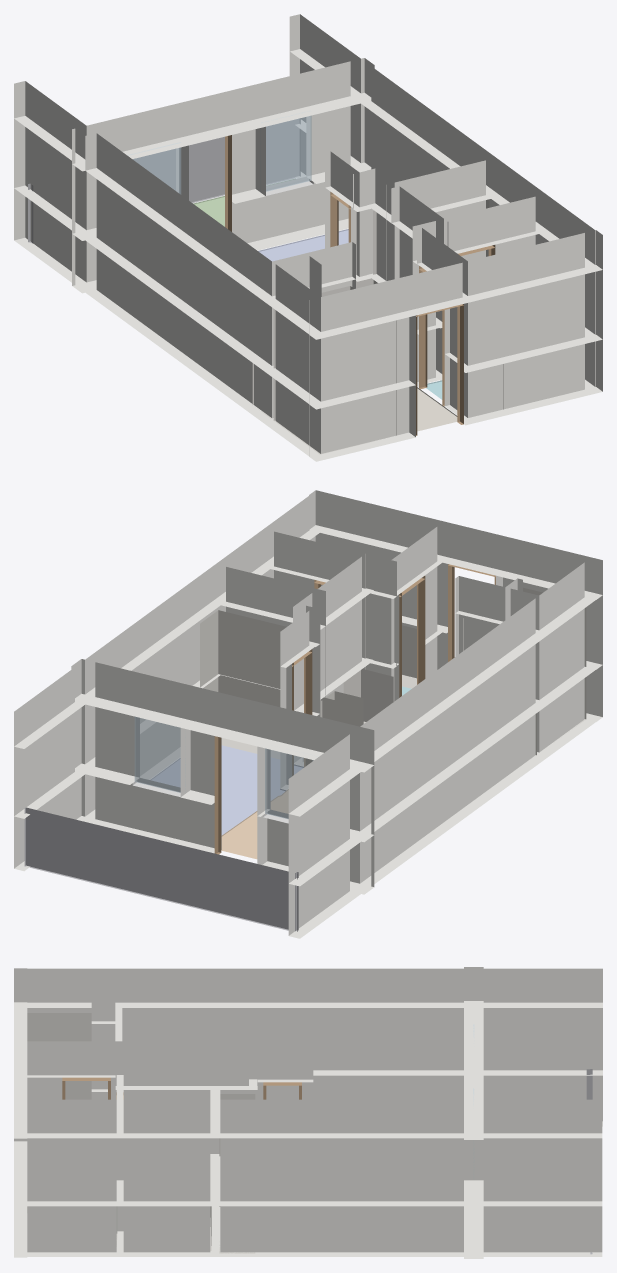
The picture shows the model from 3 angles, top to bottom: view 1: azimuth 30°, elevation 25°; view 2: azimuth 150°, elevation 25°; view 3: azimuth 270°, elevation 25°; orthographic projection. The views are drawn at different scales.
Parts seen in each view (by area): view 1: walls, railings, window_1, window_2, door_3, floor_4_Entry, floor_2_Bed_Room, door_5, furniture_1_closet, door_0, door_6; view 2: walls, railings, furniture_0_closet, floor_2_Bed_Room, window_1, window_2, furniture_3_appliance, floor_1_Living_Room, door_5, door_0, furniture_9_sink, door_6 (+3 smaller); view 3: walls, furniture_1_closet.
Boxes of the visible parts, <box> form: walls: <box>14,14,602,461</box>; railings: <box>28,118,300,243</box>; window_1: <box>260,111,311,191</box>; window_2: <box>127,142,181,194</box>; door_3: <box>416,304,463,435</box>; floor_4_Entry: <box>417,387,457,431</box>; floor_2_Bed_Room: <box>258,229,348,261</box>; door_5: <box>419,266,444,406</box>; furniture_1_closet: <box>273,286,396,454</box>; door_0: <box>225,135,231,231</box>; door_6: <box>330,192,350,247</box>; walls: <box>14,490,602,938</box>; railings: <box>24,807,298,931</box>; furniture_0_closet: <box>200,610,286,758</box>; floor_2_Bed_Room: <box>151,745,303,835</box>; window_1: <box>134,716,185,792</box>; window_2: <box>265,748,313,818</box>; furniture_3_appliance: <box>343,669,393,723</box>; floor_1_Living_Room: <box>221,789,288,859</box>; door_5: <box>399,576,425,697</box>; door_0: <box>214,736,221,854</box>; furniture_9_sink: <box>402,625,416,688</box>; door_6: <box>292,649,312,775</box>; walls: <box>14,967,602,1258</box>; furniture_1_closet: <box>27,1013,91,1099</box>.
Size of the model in its own units: 5.27 by 2.72 by 9.44.
